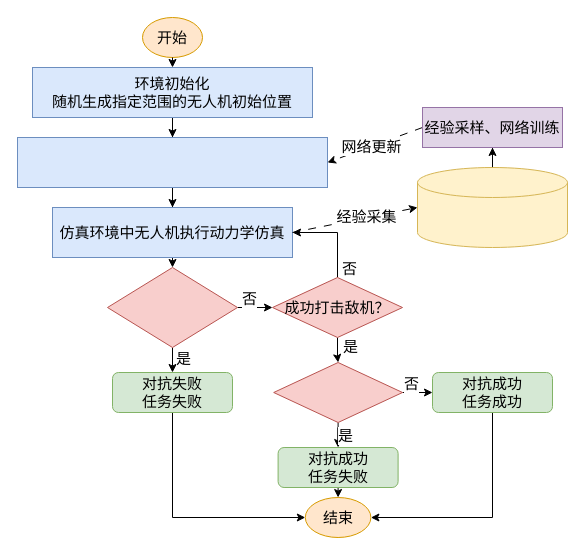
Some shapes in this 585 by 555 pixel diagram are drawn without their labels. The shapes that lost their labels are listed below. From the top down, each one's box as (x1, y1, x2, y2) in pixels, then its label:
(16, 136, 328, 188): 我方无人机策略网络输入观测、输出控制指令 敌方无人机按照随机弧形轨迹前往攻击位置
(416, 166, 568, 248): 多无人机经验回放池
(106, 266, 238, 348): 敌机达到攻击位置？
(273, 362, 402, 422): 我方发生碰撞？
